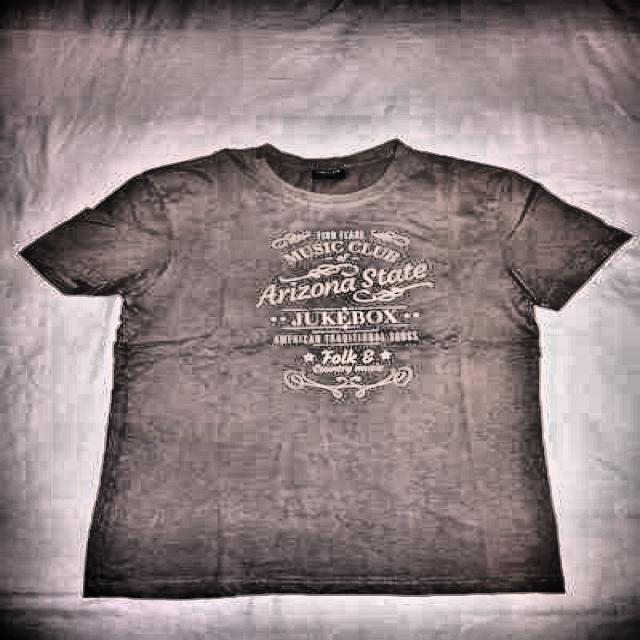clothes: (16, 142, 640, 602)
